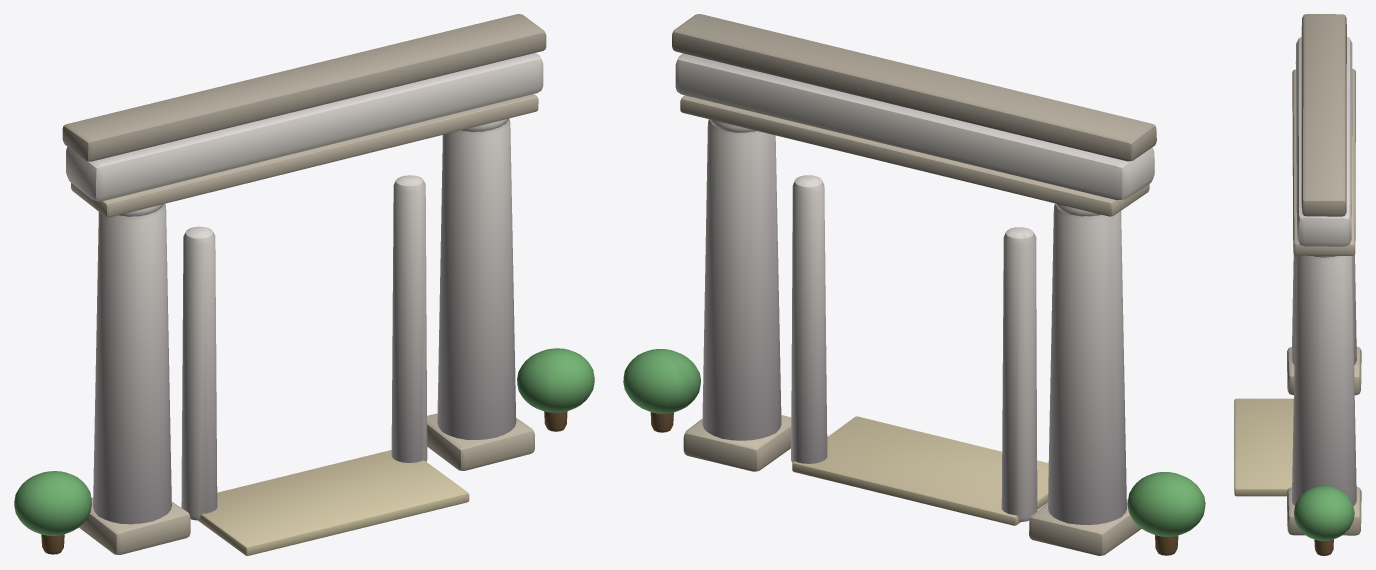
3 views of the same model, side by side, from view 1: azimuth 30°, elevation 25°; view 2: azimuth 150°, elevation 25°; view 3: azimuth 270°, elevation 25° (orthographic). The views are drawn at different scales.
Visible parts, largest first — view 1: gate_ae966a19; view 2: gate_ae966a19; view 3: gate_ae966a19.
Boxes of the visible parts, x1,y1,x2,y2 form: gate_ae966a19: (14, 14, 594, 555); gate_ae966a19: (623, 14, 1205, 555); gate_ae966a19: (1234, 14, 1361, 555).
Bounding box in the file's own units: 6.14 × 4.25 × 1.42.
